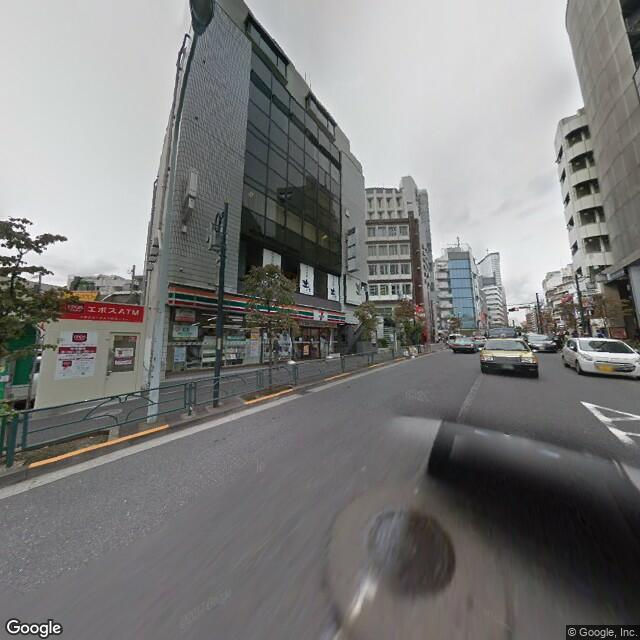7-eleven: (167, 281, 347, 328)
